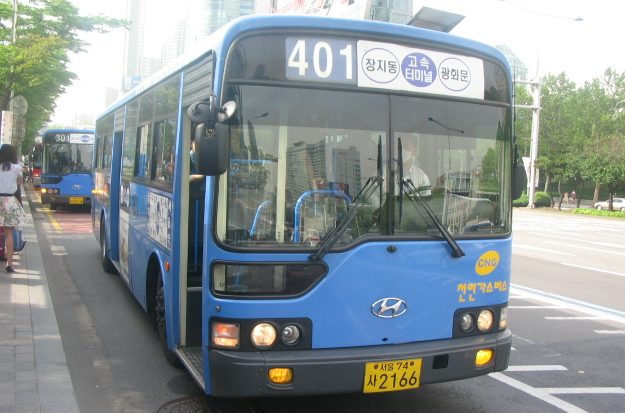bnum: (285, 36, 357, 86)
